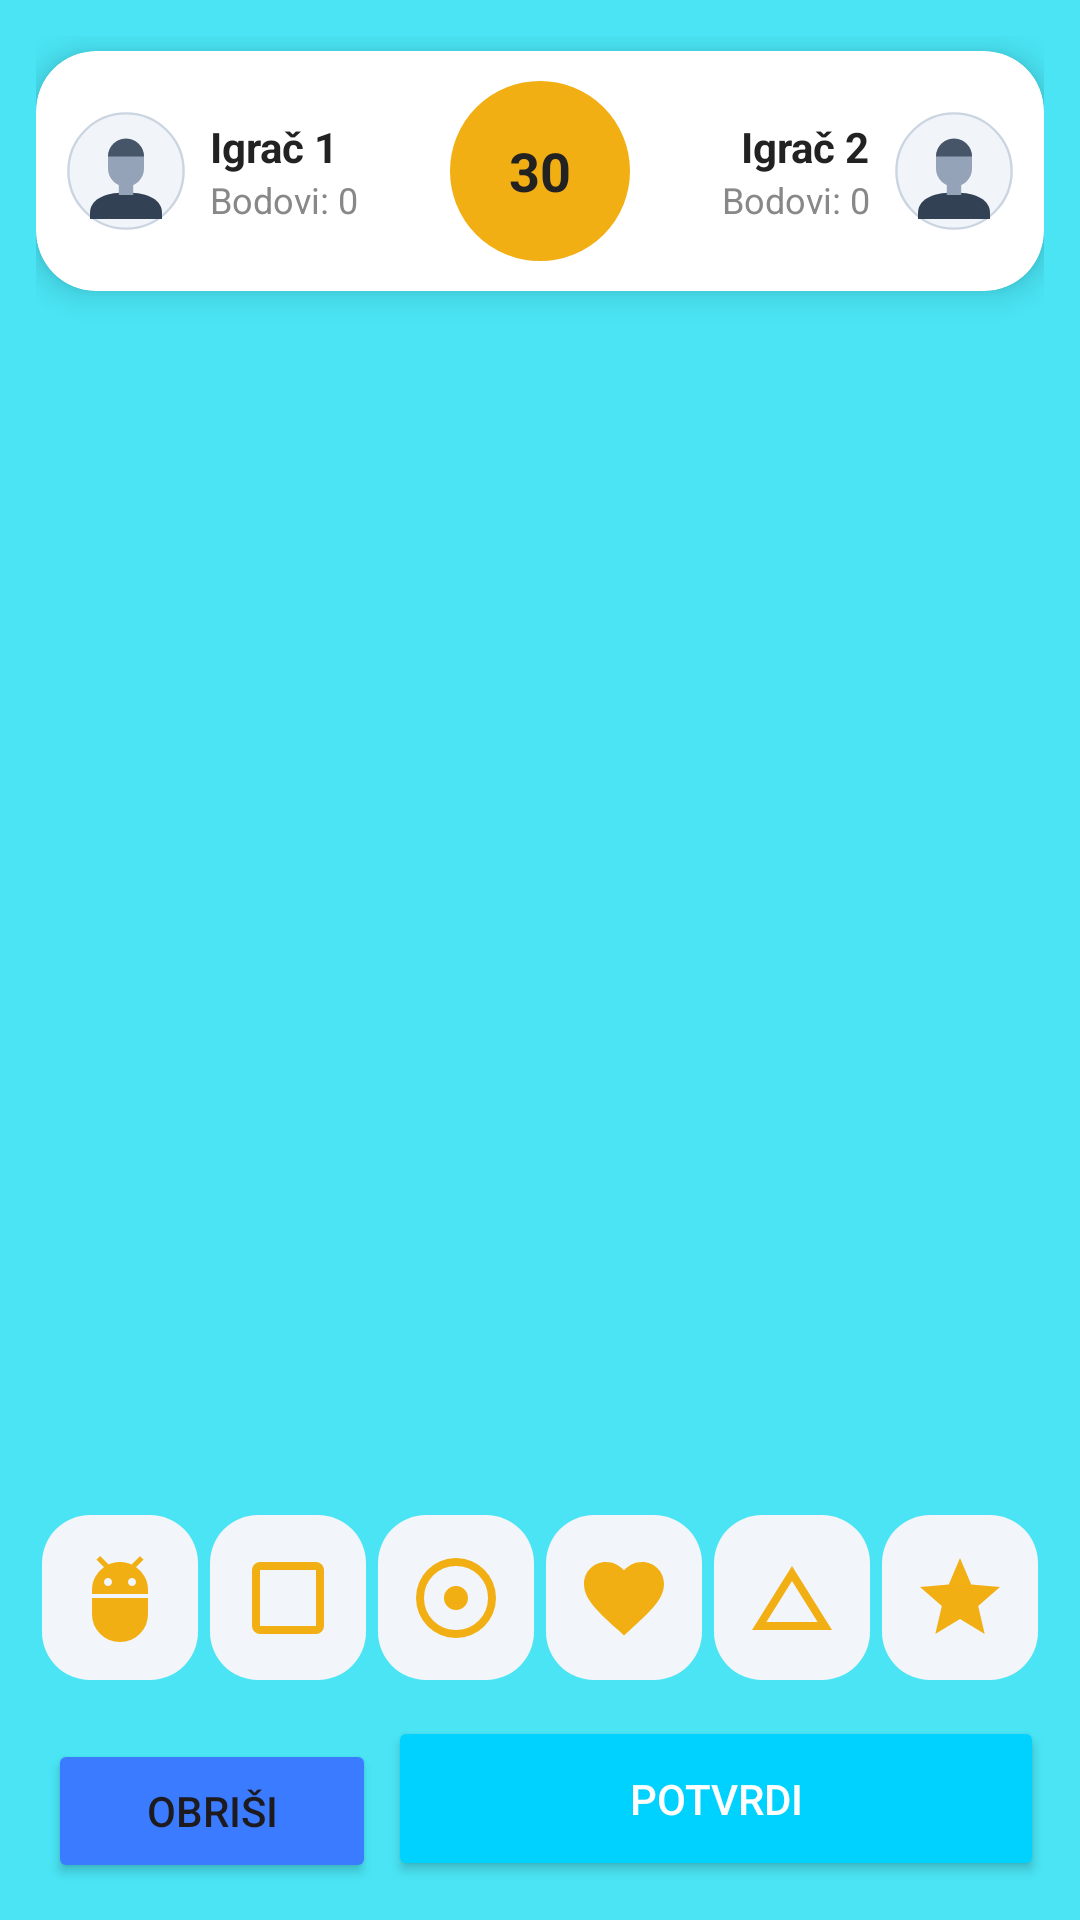

Screen size 1080x1920. Icon name, then its box in pixels as box(x1, y1, x2, y2):
krug: box(378, 1515, 534, 1680)
kvadrat: box(210, 1515, 366, 1680)
srce: box(546, 1515, 702, 1680)
trougao: box(714, 1515, 870, 1680)
zvezda: box(882, 1515, 1038, 1680)
